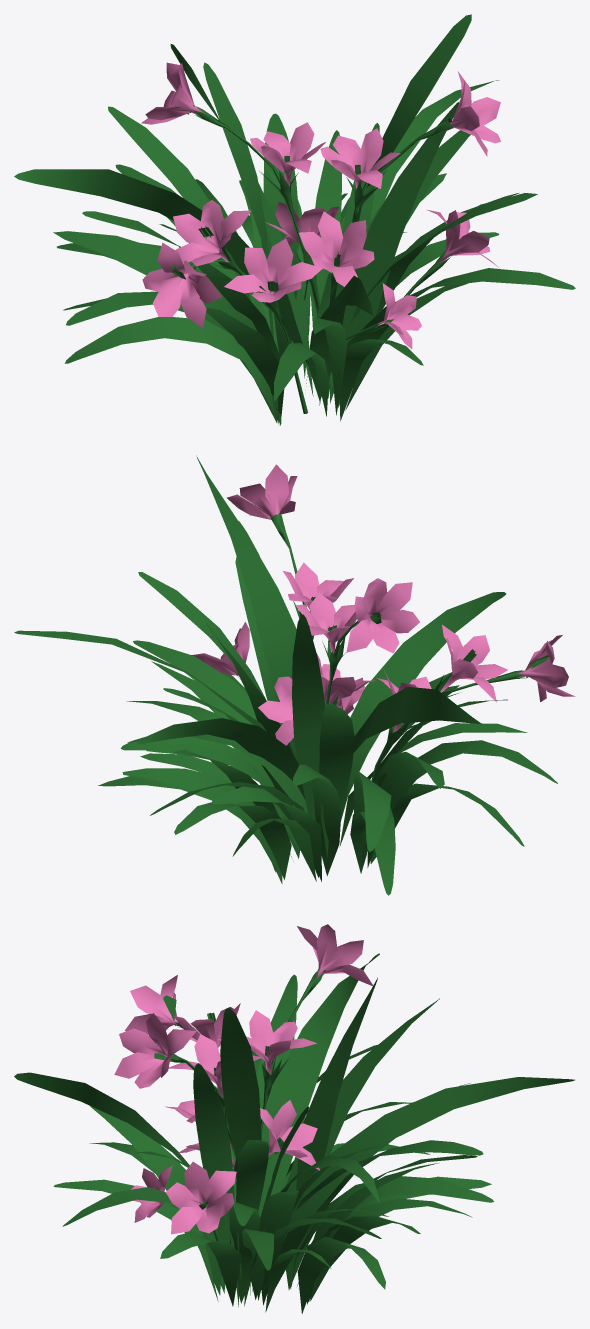
File: S_Flowers01.fbx
The picture shows the model from 3 angles, top to bottom: view 1: azimuth 30°, elevation 25°; view 2: azimuth 150°, elevation 25°; view 3: azimuth 270°, elevation 25°; orthographic projection. The views are drawn at different scales.
Parts seen in each view (by area): view 1: S_Flowers01; view 2: S_Flowers01; view 3: S_Flowers01.
Part boxes in pixels (box(x1,y1,x2,y2)): S_Flowers01: box(14, 14, 575, 425); S_Flowers01: box(14, 455, 575, 895); S_Flowers01: box(14, 924, 574, 1313).
Size of the model in its own units: 77.52 by 56.78 by 78.92.
